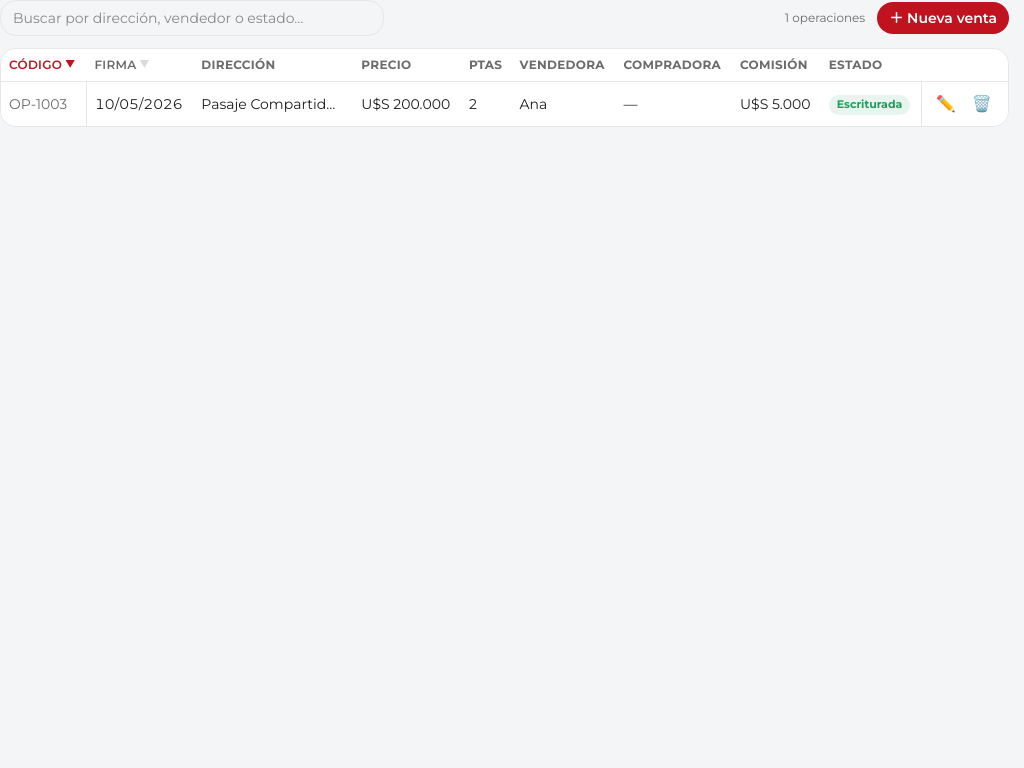
OperacionesTable — editar y borrar con la venta completa › la confirmación de borrado lista a los dos vendedores y la comisión entera
Click the button named "Borrar la venta OP-1003 (Pasaje Compartido 50)": [982, 104] box [966,90,998,118]
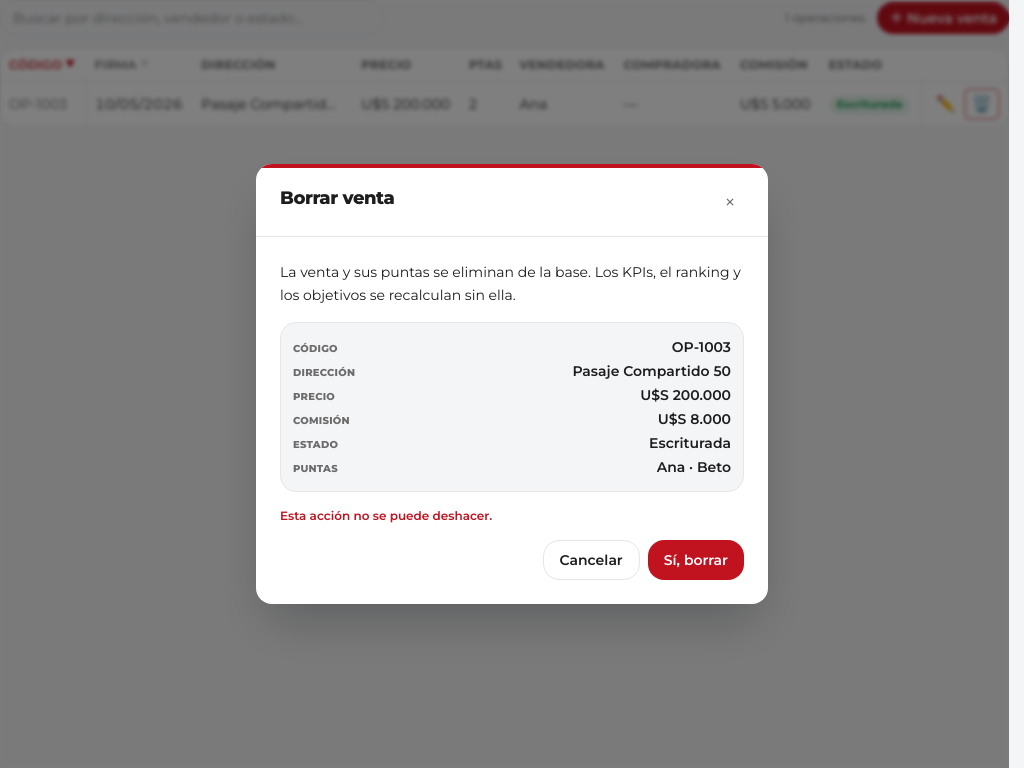
Expected: the text "Ana · Beto" is shown, [657,457,731,477]
Expected: the text "U$S 8.000" is shown, [658,409,731,429]
